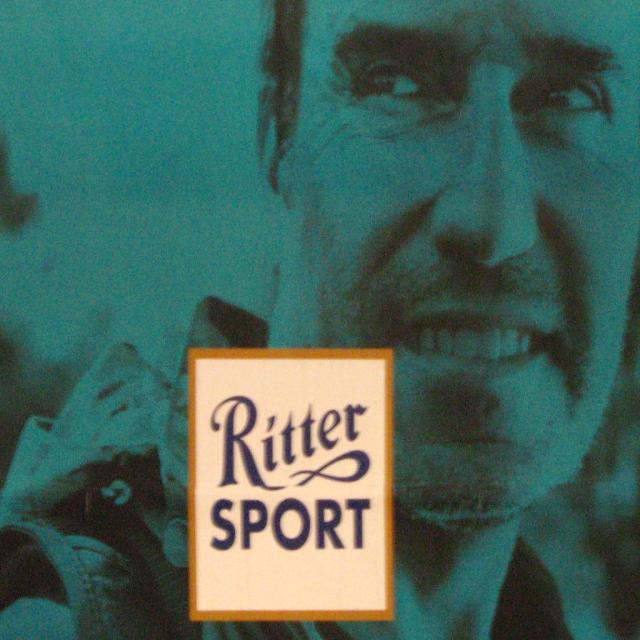rittersport: (188, 348, 393, 622)
